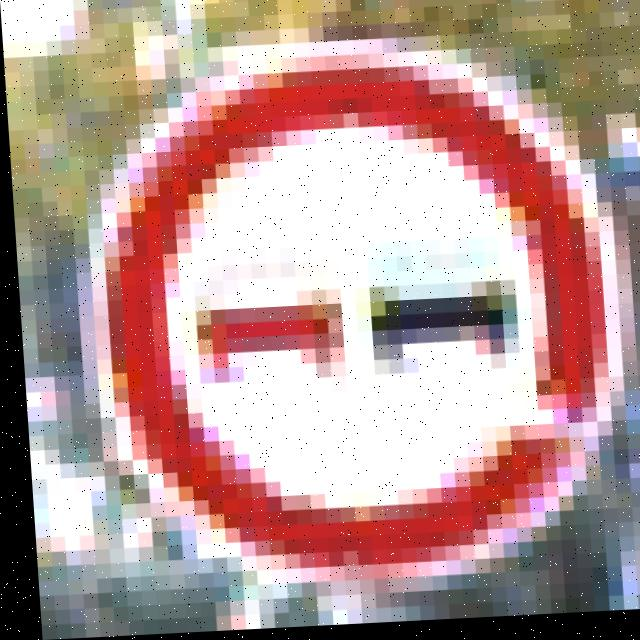no_overtaking: (57, 36, 640, 575)
